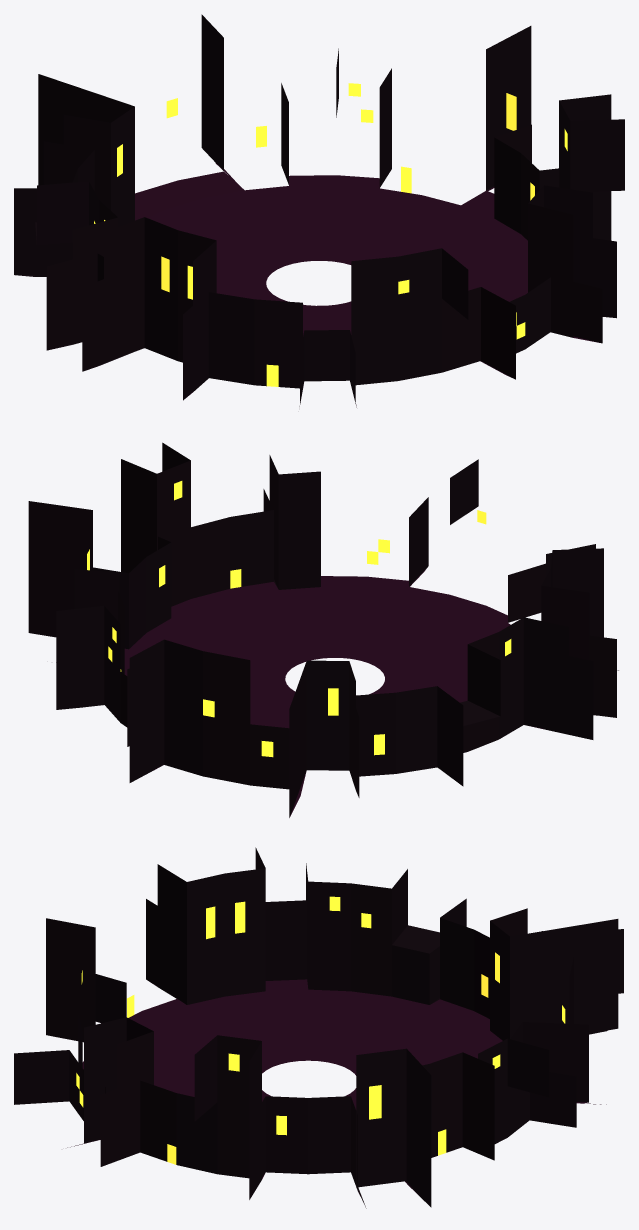
The model's file is background.glb.
3 renders of one model, top to bottom at view 1: azimuth 30°, elevation 25°; view 2: azimuth 150°, elevation 25°; view 3: azimuth 270°, elevation 25°, orthographic. The views are drawn at different scales.
Parts seen in each view (by area): view 1: BG; view 2: BG; view 3: BG.
Boxes of the visible parts, x1=… form: BG: x1=14, y1=14, x2=624, y2=407; BG: x1=28, y1=442, x2=618, y2=817; BG: x1=14, y1=847, x2=623, y2=1208.
Bounding box in the file's own units: 36.97 × 9.26 × 36.62.
